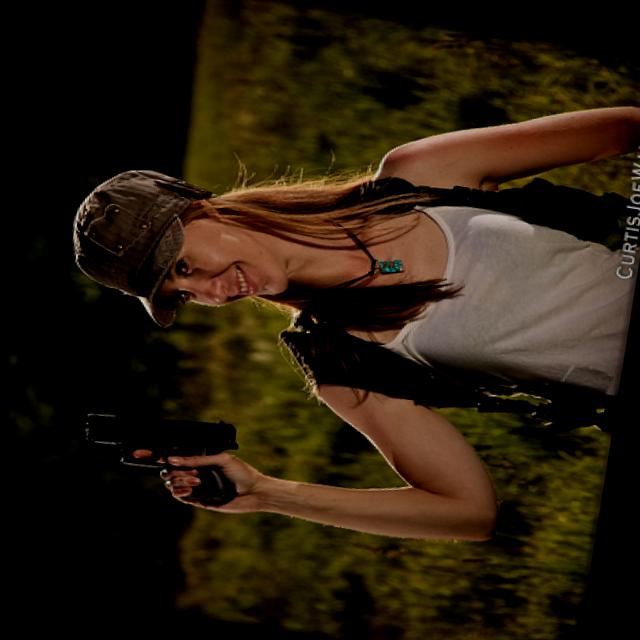handgun: (71, 402, 241, 506)
